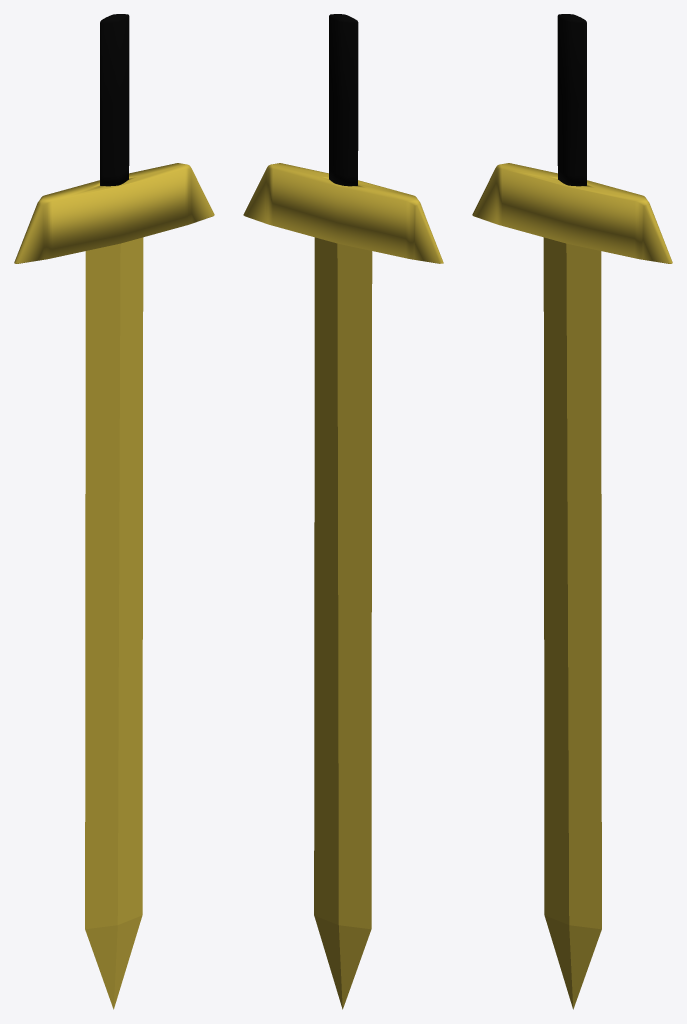
Rendered from Excalibur.fbx.
3 views of the same model, side by side, from view 1: azimuth 30°, elevation 25°; view 2: azimuth 150°, elevation 25°; view 3: azimuth 330°, elevation 25° (orthographic).
Parts seen in each view (by area): view 1: Sword.001, Sword.002, Sword; view 2: Sword.001, Sword.002, Sword; view 3: Sword.001, Sword.002, Sword.
Part boxes in pixels (x1,y1,x2,y2): Sword.001: (85, 237, 143, 1009); Sword.002: (14, 163, 214, 263); Sword: (100, 14, 129, 186); Sword.001: (314, 237, 372, 1009); Sword.002: (243, 163, 443, 263); Sword: (329, 14, 358, 186); Sword.001: (543, 237, 601, 1009); Sword.002: (472, 163, 672, 263); Sword: (557, 14, 586, 186).
Size of the model in its own units: 91.3 by 435 by 9.6.
